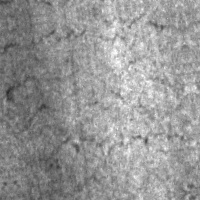crazing: (20, 115, 194, 171), (1, 61, 122, 131), (0, 11, 166, 62)
